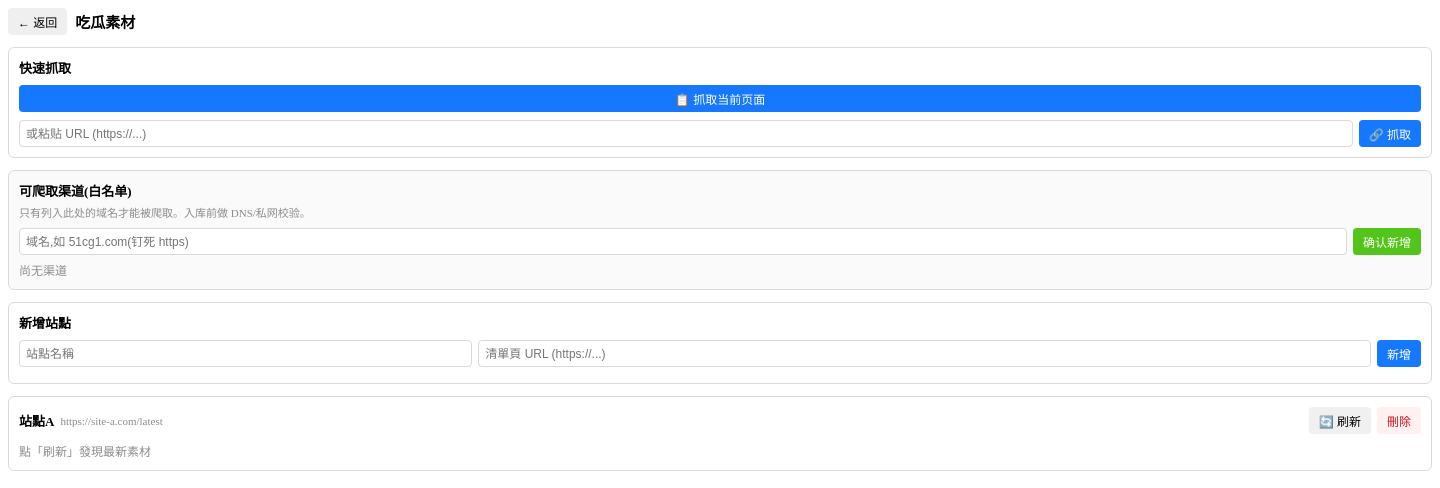
Test case: GossipView › 删除站点 → 站点从列表消失
Expected: the text "站點A" is shown, [19,411,54,430]
Click the button "刪除": click(1399, 420) [1377,407,1421,434]
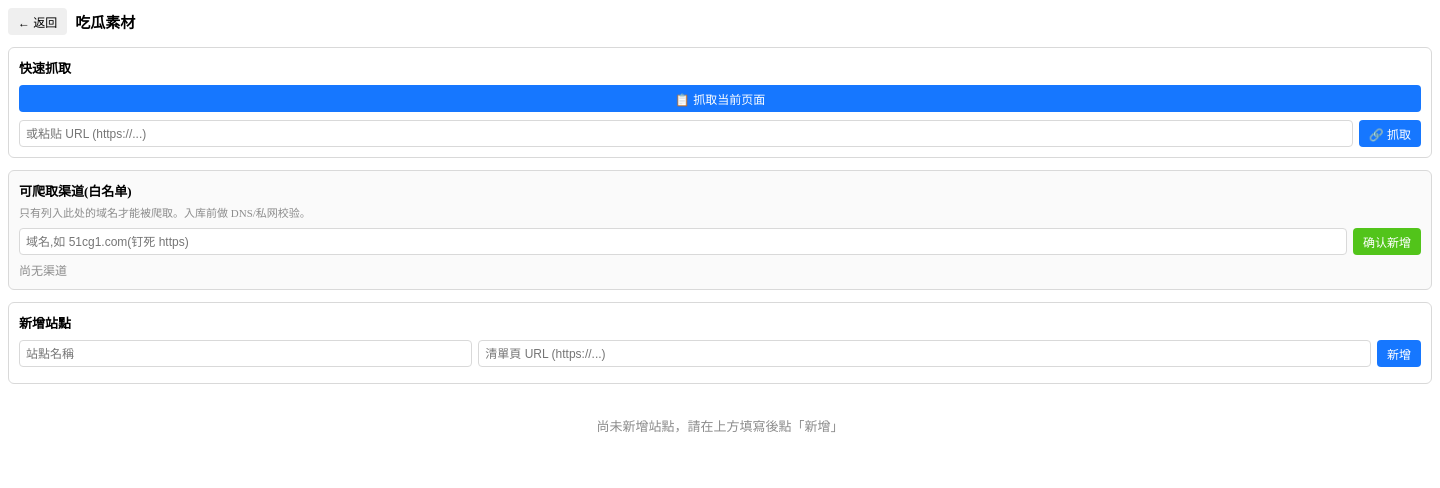
Now the text "站點A" is gone
